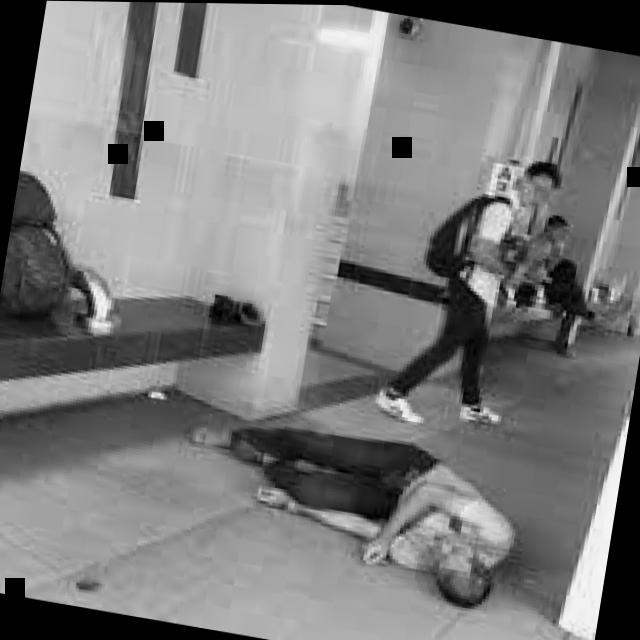Fall-Detected: (168, 383, 542, 615)
